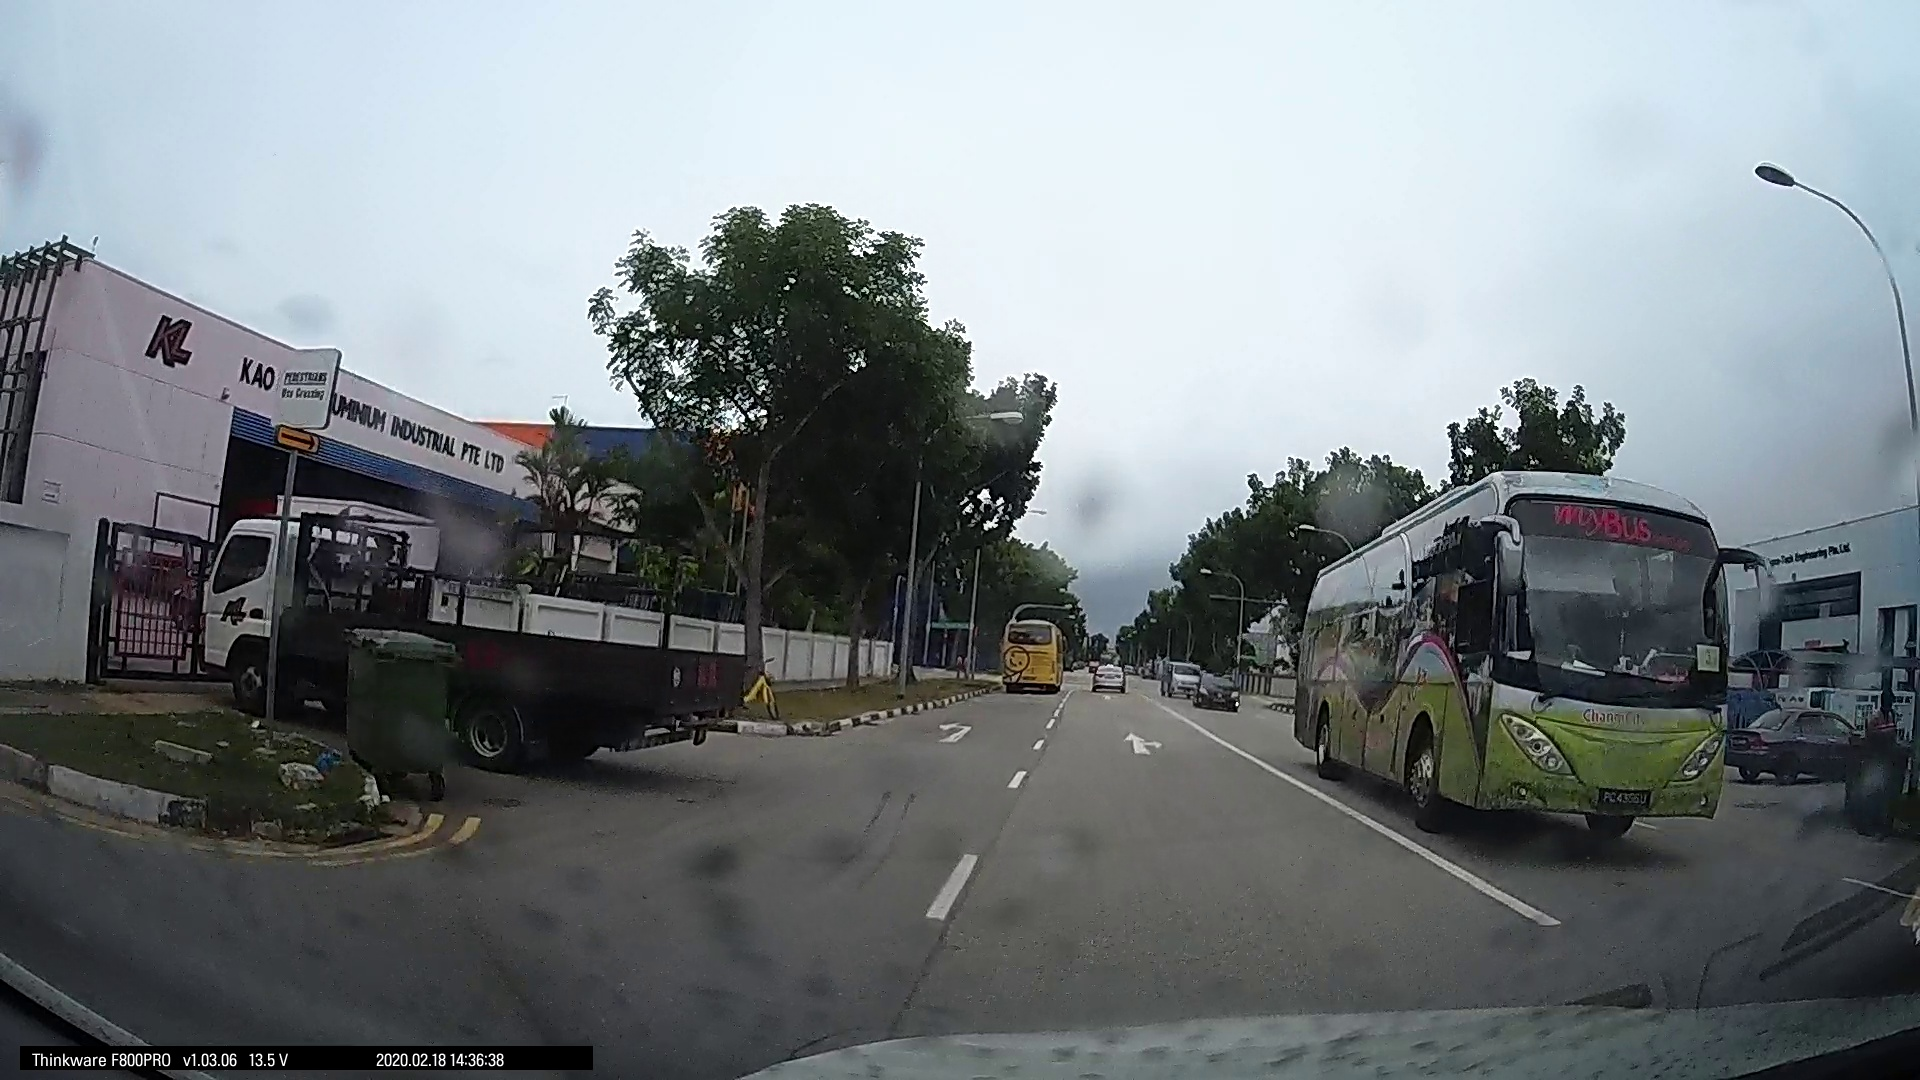Light Vehicle: (1689, 688, 1919, 915), (992, 640, 1137, 779), (1449, 651, 1611, 723), (1236, 647, 1357, 711), (525, 611, 634, 669), (790, 640, 881, 683)
